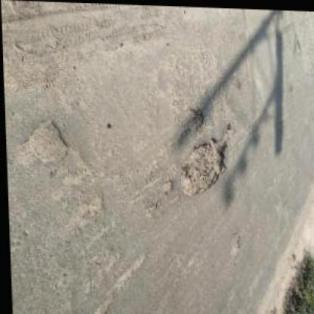Hueco: (175, 123, 233, 199), (14, 116, 70, 170), (174, 106, 204, 139), (85, 295, 114, 313), (225, 230, 241, 255)
